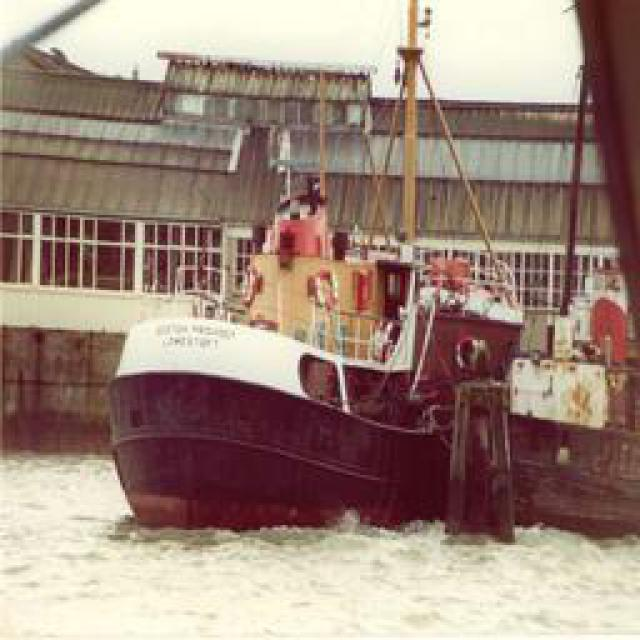Ship: (108, 266, 523, 539)
